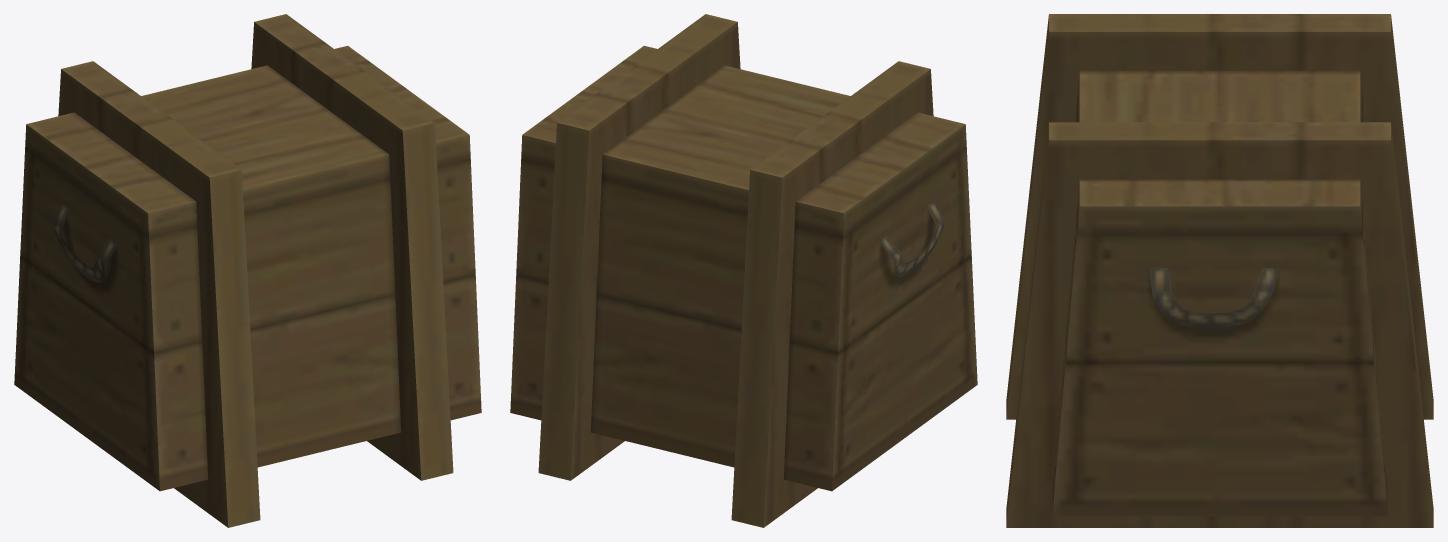
3 views of the same model, side by side, from view 1: azimuth 30°, elevation 25°; view 2: azimuth 150°, elevation 25°; view 3: azimuth 270°, elevation 25° (orthographic). The views are drawn at different scales.
Visible parts, largest first — view 1: ww2_box_02; view 2: ww2_box_02; view 3: ww2_box_02.
Boxes of the visible parts, bbox=[...] form: ww2_box_02: bbox=[14, 14, 481, 527]; ww2_box_02: bbox=[510, 14, 977, 527]; ww2_box_02: bbox=[1006, 14, 1433, 527].
Size of the model in its own units: 1.07 by 1 by 1.
1 material, 1 textured.
